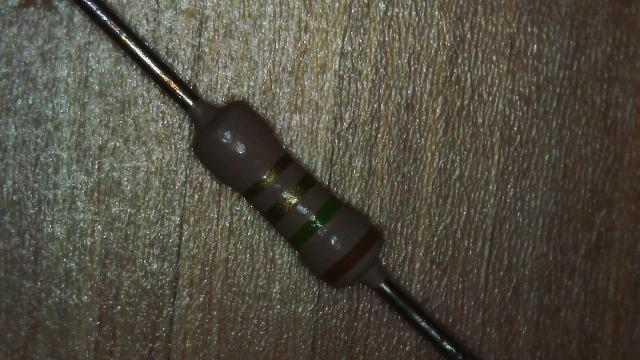brown: (322, 229, 380, 282)
gold: (266, 175, 315, 224), (246, 155, 289, 197)
green: (290, 195, 342, 248)
resistor: (152, 70, 420, 322)
